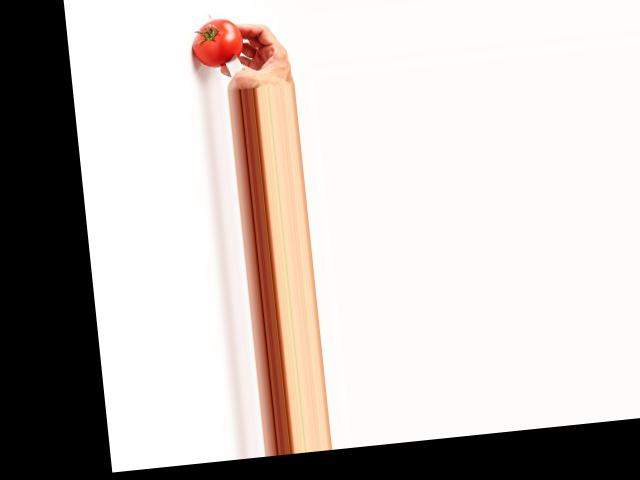tomato: (190, 17, 245, 69)
